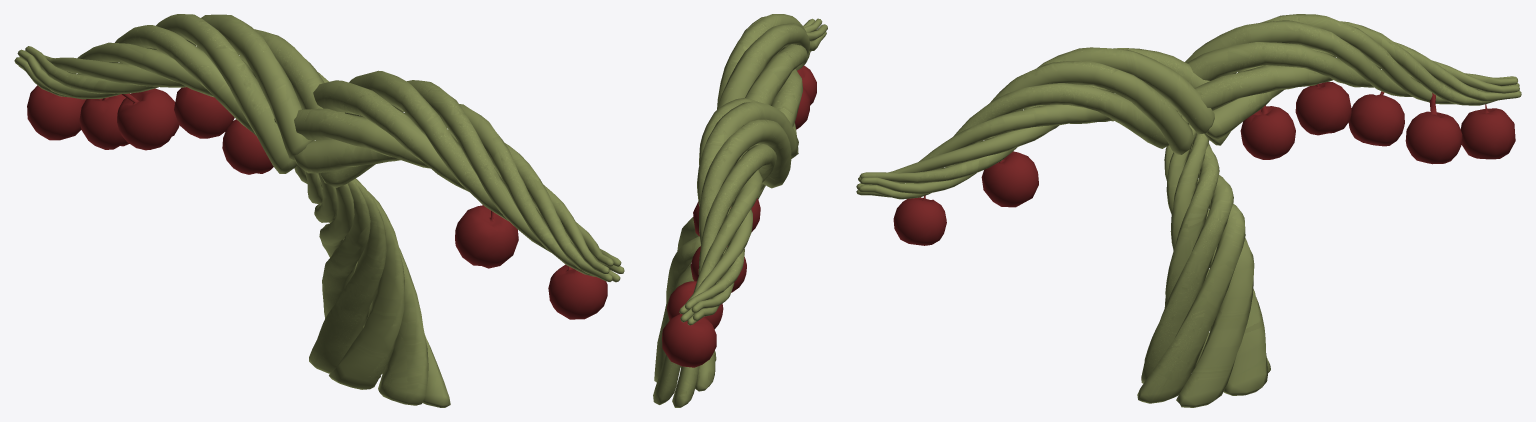
The model's file is pomidory.fbx.
3 renders of one model, left to right at view 1: azimuth 30°, elevation 25°; view 2: azimuth 150°, elevation 25°; view 3: azimuth 270°, elevation 25°, orthographic. The views are drawn at different scales.
Parts seen in each view (by area): view 1: Cube_0040, Cube1.031; view 2: Cube_0040, Cube1.031; view 3: Cube_0040, Cube1.031.
Boxes of the visible parts, <box> form: Cube_0040: <box>14,14,624,407</box>; Cube1.031: <box>27,85,607,319</box>; Cube_0040: <box>653,14,827,407</box>; Cube1.031: <box>662,65,816,367</box>; Cube_0040: <box>856,14,1521,407</box>; Cube1.031: <box>893,82,1515,245</box>.
Size of the model in its own units: 149 by 203 by 374.
Materials: 2 (2 with a texture image).
